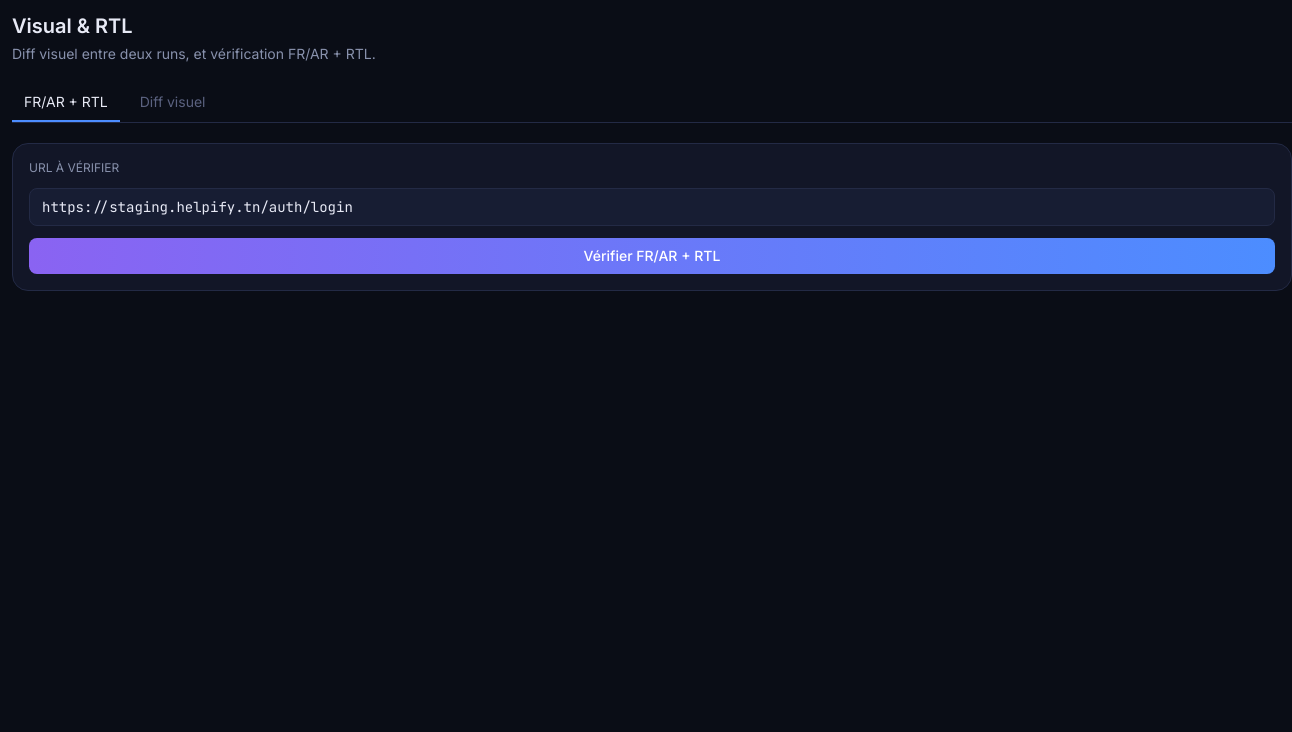
Test: Visual/RTL : onglet FR/AR + RTL › RTL non appliqué et anomalies détaillées par gravité
The image size is (1292, 732).
Click the button "Vérifier FR/AR + RTL" at x=652, y=256, box [29,238,1275,274]
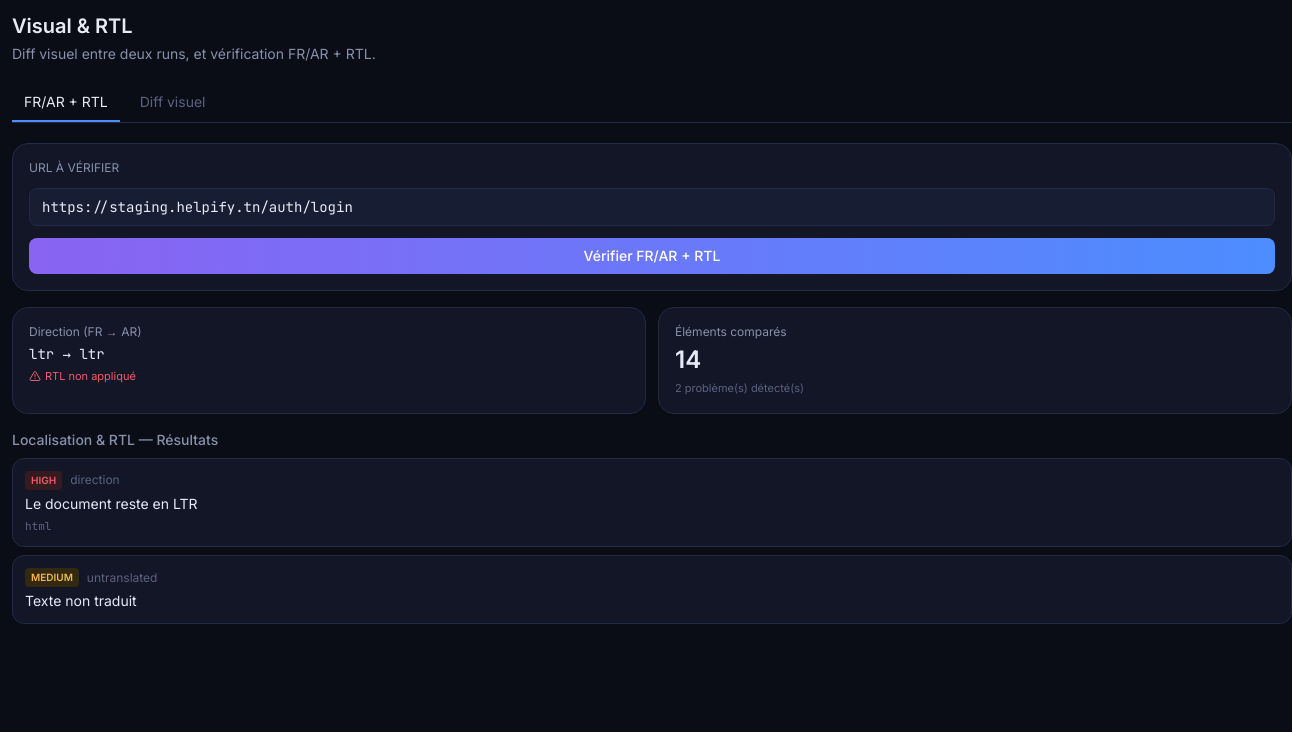
Now the text "RTL non appliqué" is shown, box [29,369,136,383]
Now the text "HIGH" is shown, box [25,470,62,490]
Now the text "MEDIUM" is shown, box [25,568,79,587]
